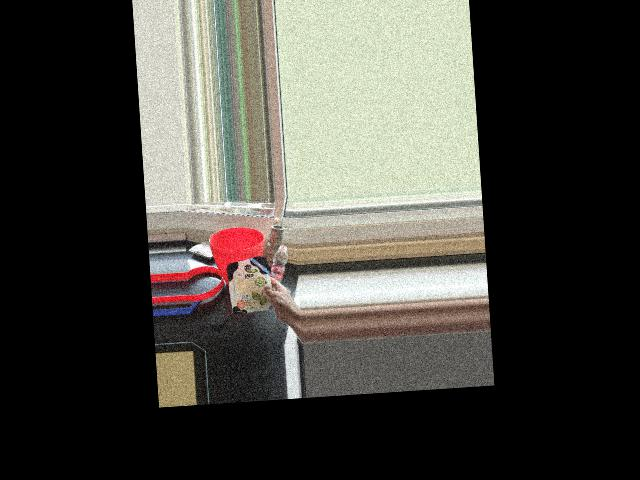cheese: (226, 254, 283, 310)
